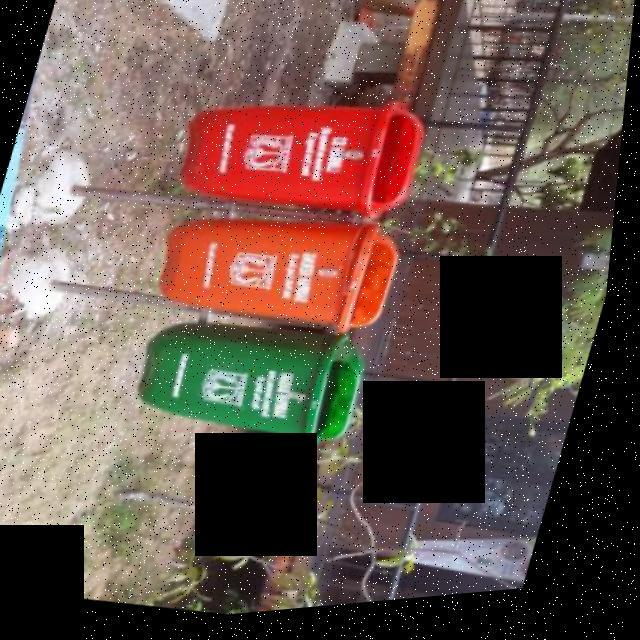bin: (145, 59, 454, 255), (135, 180, 430, 367), (127, 300, 390, 480)
